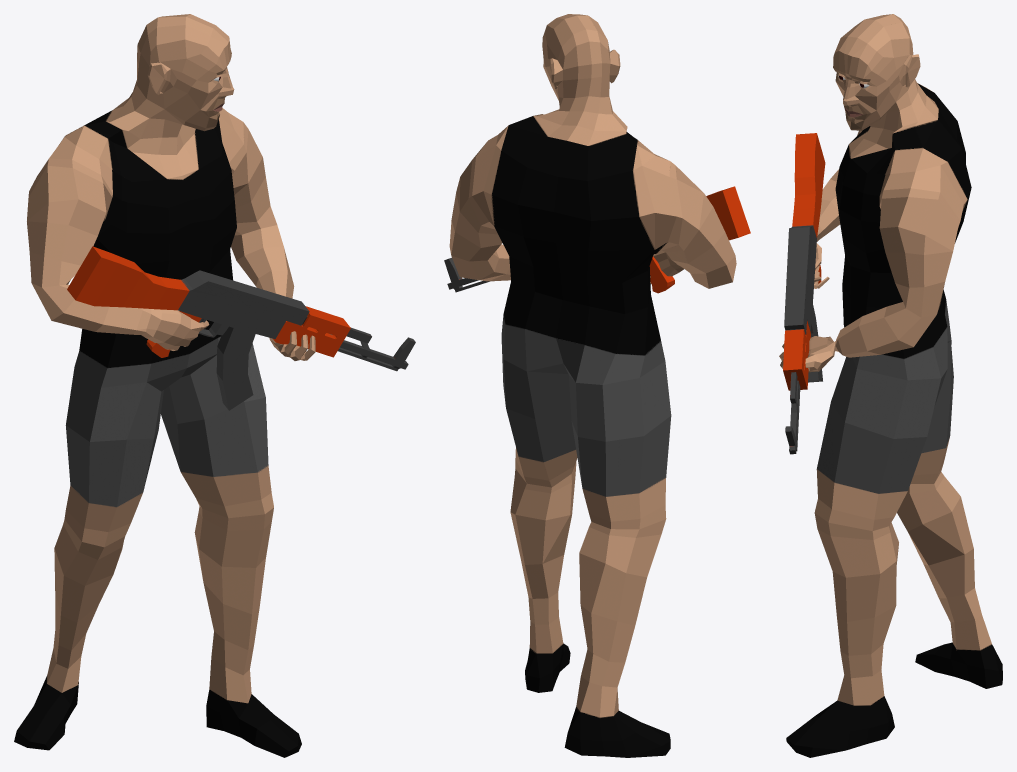
Rendered from PlayerIdle(128).obj.
The picture shows the model from 3 angles, left to right: view 1: azimuth 30°, elevation 25°; view 2: azimuth 150°, elevation 25°; view 3: azimuth 270°, elevation 25°; orthographic projection. The views are drawn at different scales.
Visible parts, largest first — view 1: Plane002, Object001; view 2: Plane002, Object001; view 3: Plane002, Object001.
Boxes of the visible parts, bbox=[...] form: Plane002: bbox=[14, 14, 332, 757]; Object001: bbox=[67, 246, 415, 410]; Plane002: bbox=[449, 14, 736, 757]; Object001: bbox=[444, 186, 750, 293]; Plane002: bbox=[779, 14, 1002, 757]; Object001: bbox=[783, 133, 825, 454].
Bounding box in the file's own units: 885 × 1797 × 521.
